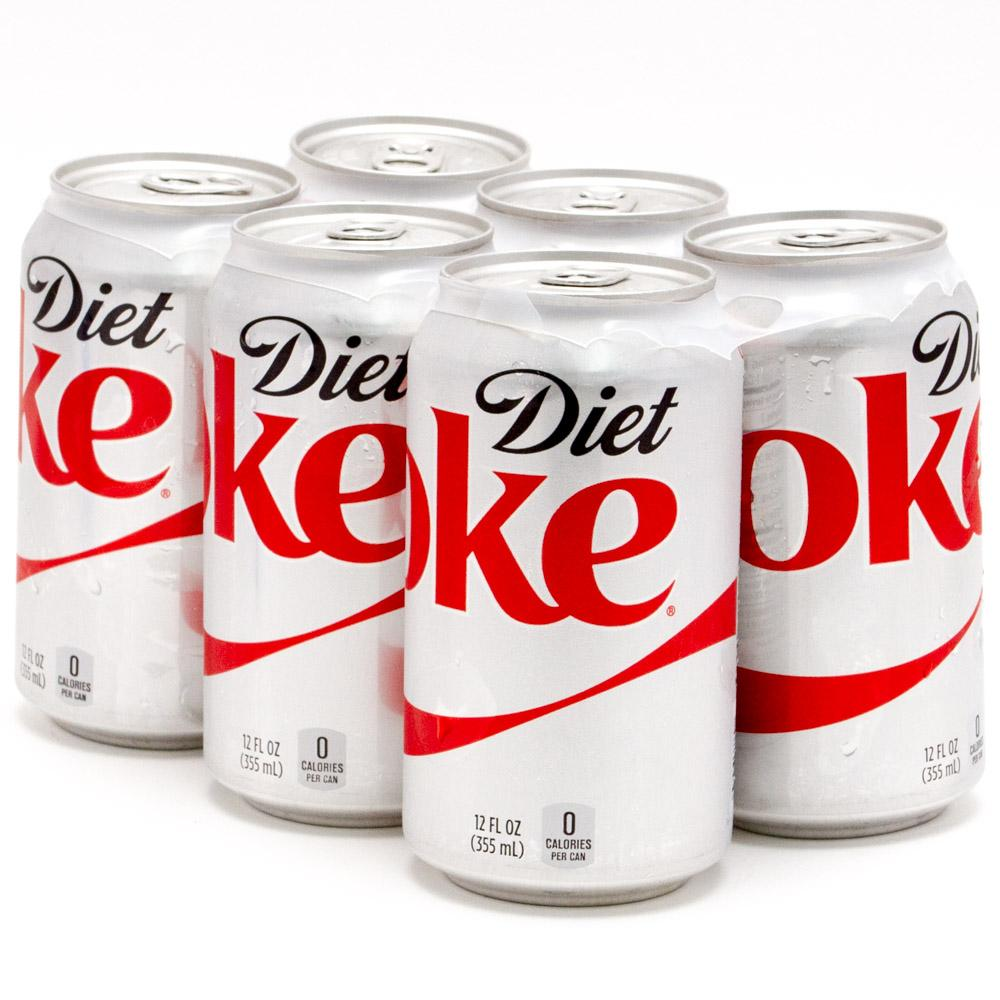can: (397, 247, 740, 907), (673, 212, 1000, 853), (189, 198, 515, 835), (14, 144, 305, 755), (262, 107, 543, 247), (476, 158, 740, 262)
